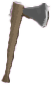axe: (1, 1, 50, 85)
